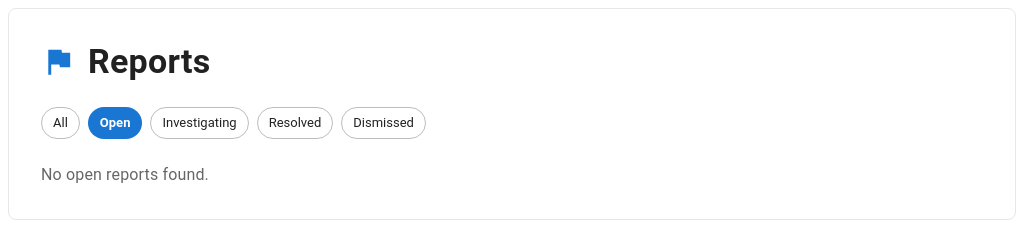
it: ReportsPage › shows the empty state for the all filter
This screenshot has width=1024, height=237.
Expected: the text "No open reports found." is shown, top-left (41, 165), bottom-right (209, 184)
Step 1. Click the button "All" → point(60, 123), box top-left (41, 107), bottom-right (80, 139)
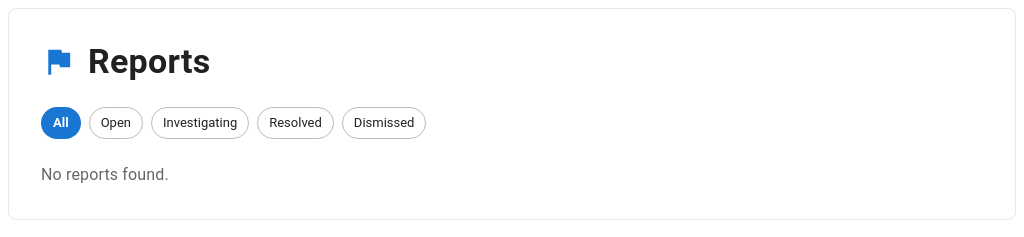
Result: the text "No reports found." is shown at top-left (41, 165), bottom-right (169, 184)
